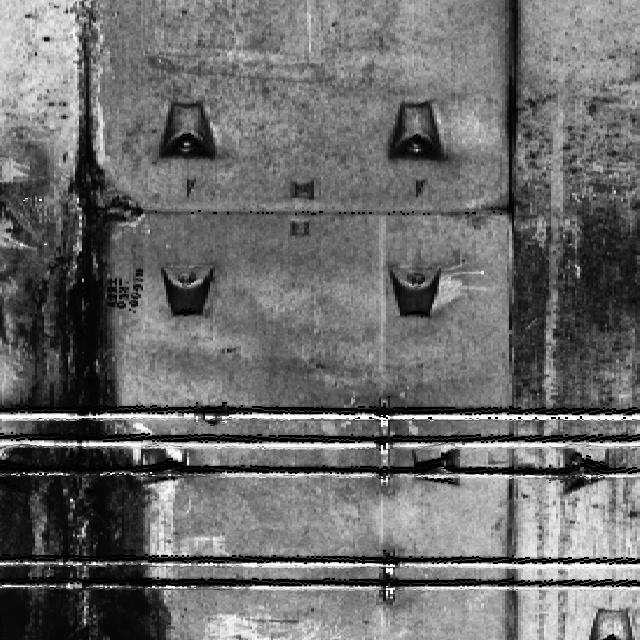leakage: (0, 0, 184, 638)
